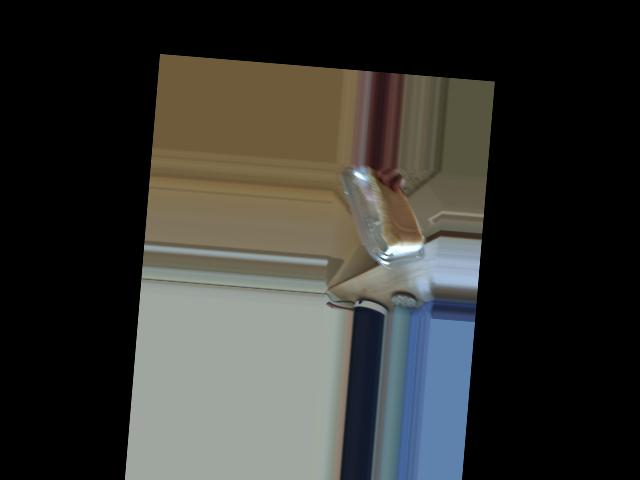cheese: (349, 199, 416, 259)
